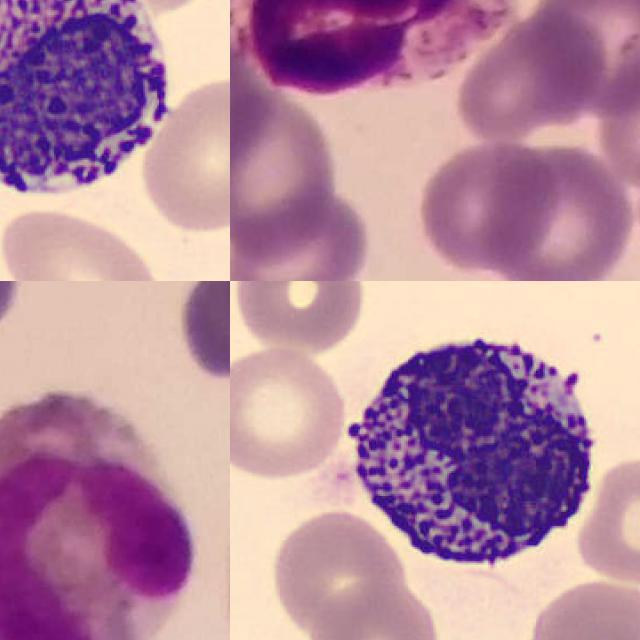Basophil: (330, 316, 609, 579), (0, 0, 182, 216)
Eosinophil: (0, 389, 194, 640)
Neutrophil: (230, 0, 519, 90)
RBC: (266, 509, 406, 636), (230, 344, 349, 481), (136, 71, 230, 240), (0, 207, 164, 281), (230, 281, 368, 356), (573, 453, 640, 587), (303, 584, 443, 640), (522, 575, 640, 640)
